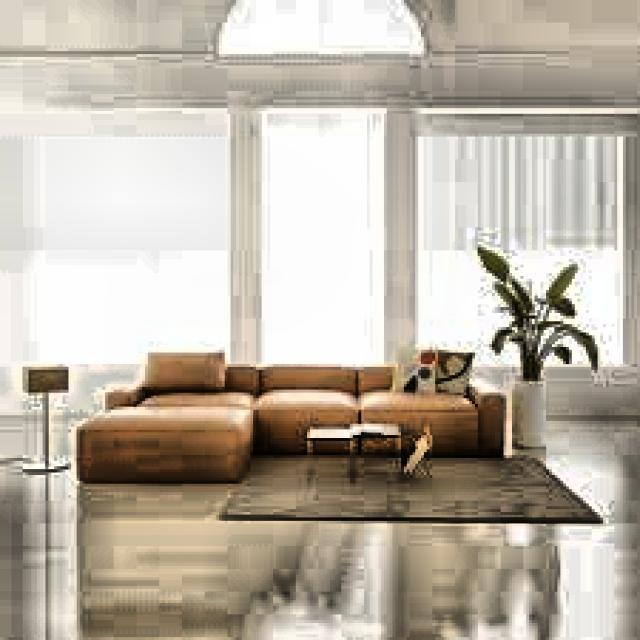sofa: (74, 350, 512, 483)
